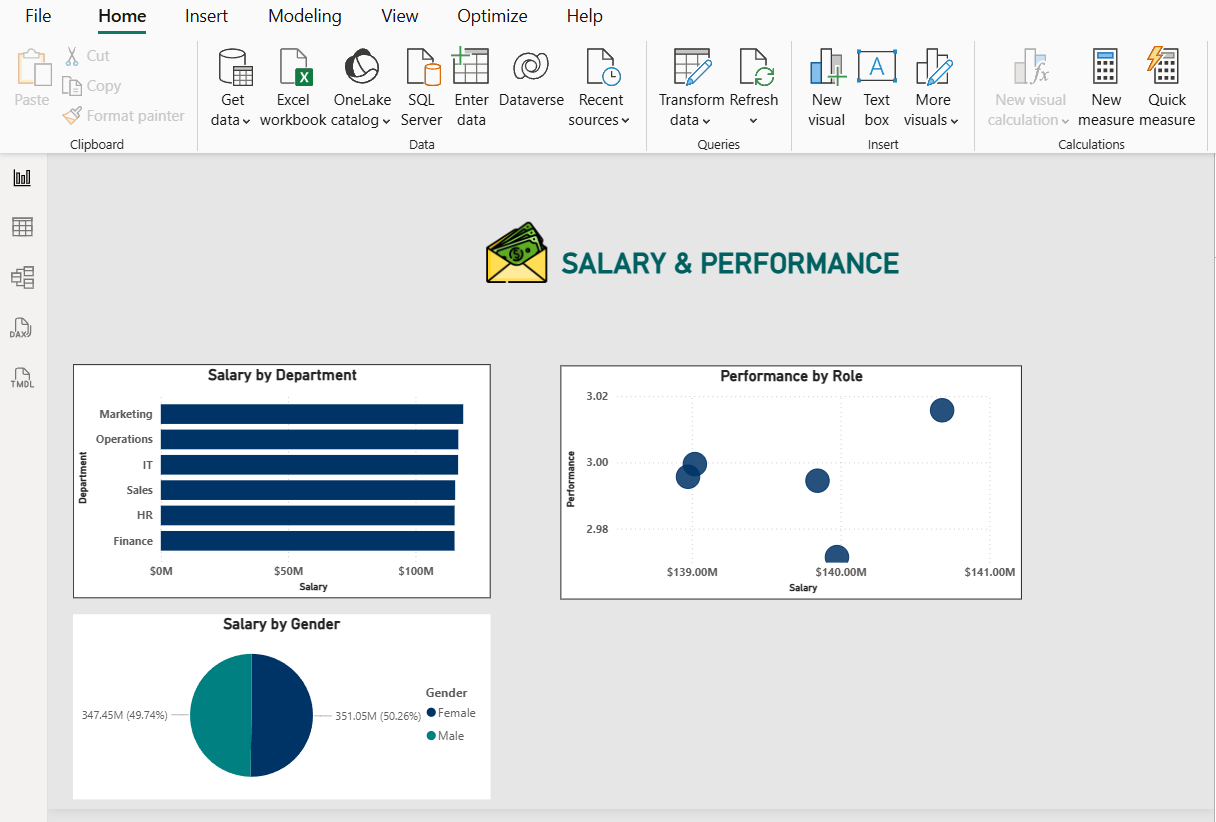

What the dashboard file says about the page in this screenshot:
{"tool":"powerbi","page":{"name":"Page 3","canvas":[1280,720],"ordinal":2},"visuals":[{"type":"barChart","title":"Salary by Department","fields":{"Category":["HR_Data.Department"],"Y":["Sum(HR_Data.Salary)"]},"box":[27.4,231.9,458.3,256.6],"z":0},{"type":"scatterChart","title":"Performance by Role","fields":{"Size":["Max(HR_Data.Years_at_Company)"],"X":["Sum(HR_Data.Salary)"],"Category":["HR_Data.Job_Role"],"Y":["Measure.Avg_performance"]},"box":[562.6,233.3,506.3,256.6],"z":1000},{"type":"textbox","title":"SALARY & PERFORMANCE","box":[496.7,102.9,505,78.2],"z":2000},{"type":"pieChart","title":"Salary by Gender","fields":{"Y":["Sum(HR_Data.Salary)"],"Category":["HR_Data.Gender"]},"box":[27.4,506.3,458.3,203.1],"z":3000},{"type":"image","box":[466.6,75.5,96.1,67.2],"z":4000}]}

Visuals, with their boxes on the page's 1280x720 design canvas (x1, y1, x2, y2). These are canvas units, not pixel positions in the 1216x822 screenshot, which may show the page scaled, cropped or inside an application window:
"Salary by Department" barChart: 27/232/486/488
"Performance by Role" scatterChart: 563/233/1069/490
"SALARY & PERFORMANCE" textbox: 497/103/1002/181
"Salary by Gender" pieChart: 27/506/486/709
image: 467/76/563/143
